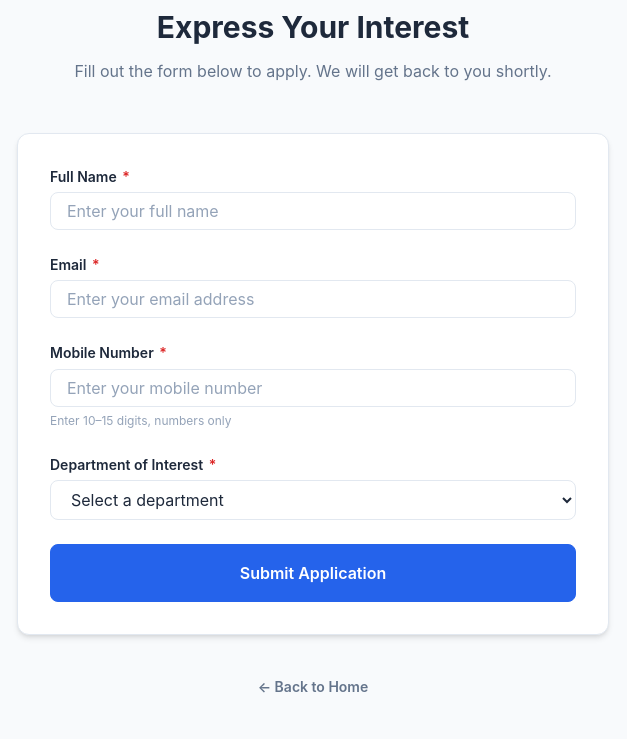
Test case: InterestForm › successful submission › success banner can be dismissed
This screenshot has width=627, height=739.
Type "Jane Doe" into the field labelled "Full Name *". click: [313, 211]
box: [50,192,576,230]
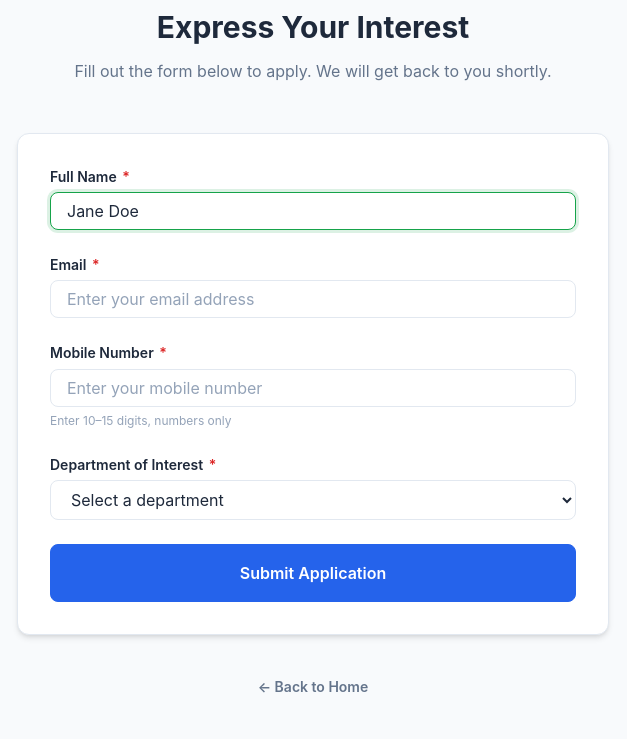
Type "jane@example.com" into the field labelled "Email *". click: [313, 299]
box: [50,280,576,318]
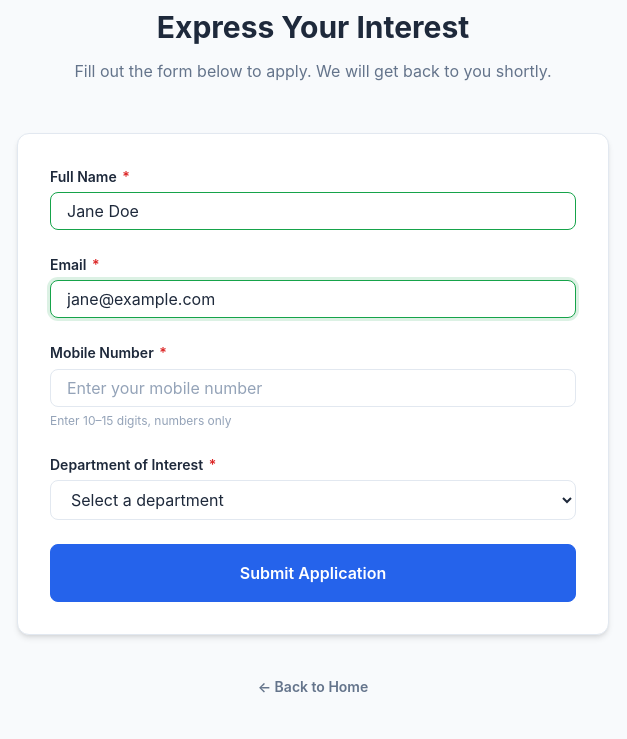
Type "1234567890" into the field labelled "Mobile Number *". click: [313, 388]
box: [50,369,576,407]
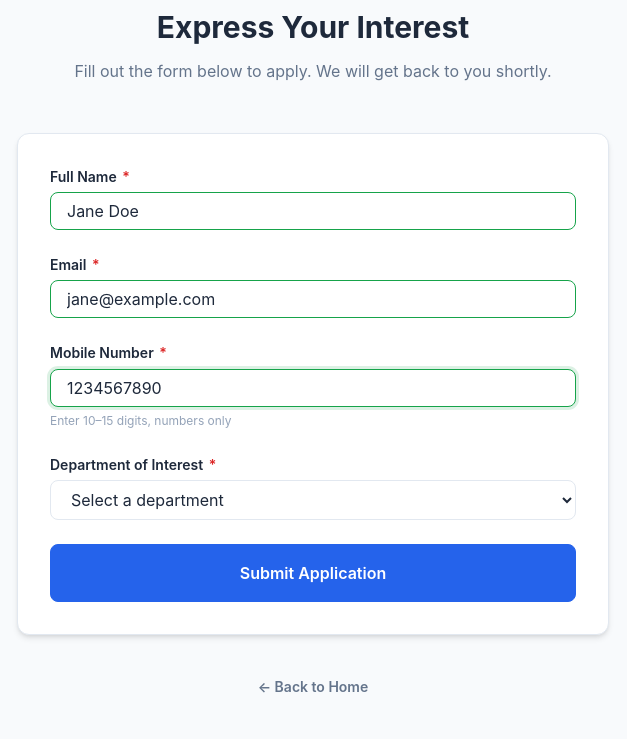
Select "Engineering" in the dropdown labelled "Department of Interest *". click: [313, 500]
box: [50,480,576,520]
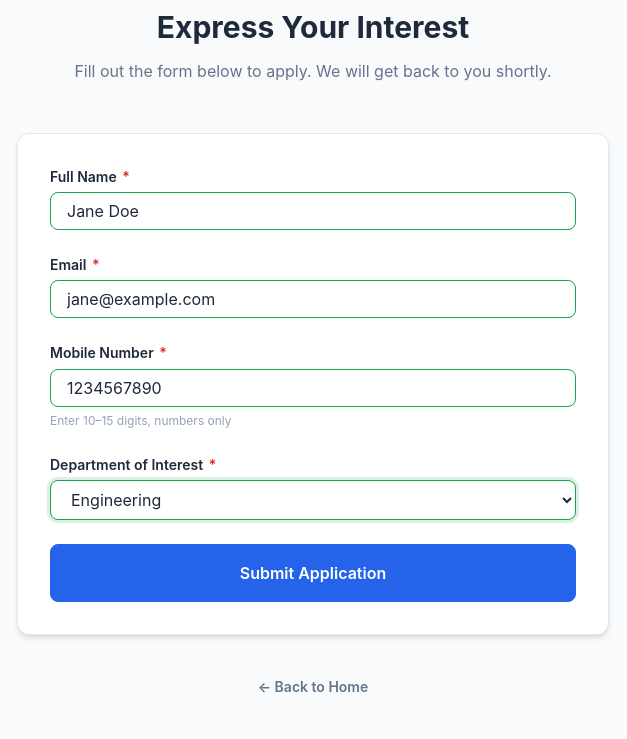
Click the button "Submit Application". click: [313, 573]
box: [50,544,576,602]
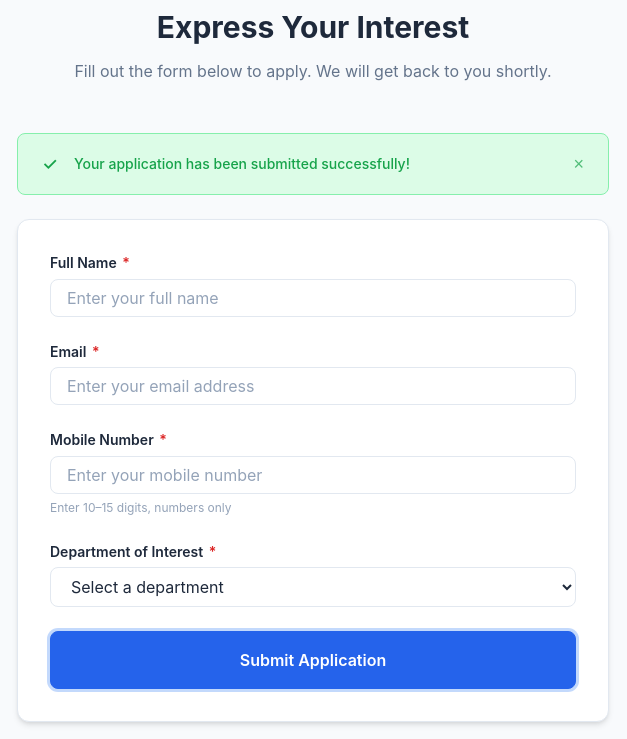
Now the text "Your application has been submitted successfully!" is shown, box [74,155,410,172]
Click the button named "dismiss success message". click: [579, 164]
box: [574,155,584,173]
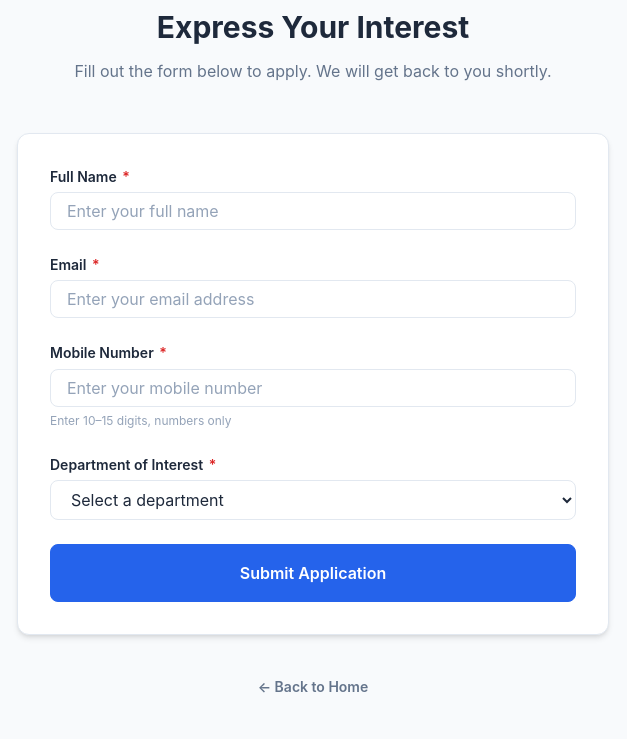
Now the text "Your application has been submitted successfully" is gone
